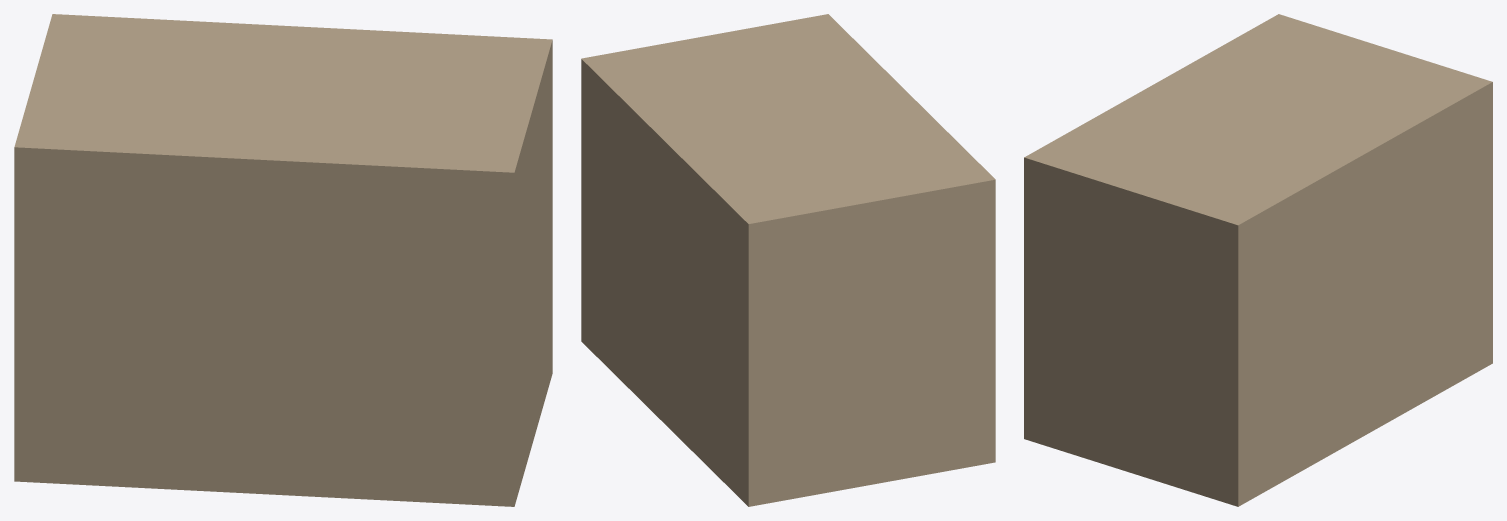
Rendered from bld_107639088.dae.
The picture shows the model from 3 angles, left to right: view 1: azimuth 30°, elevation 25°; view 2: azimuth 150°, elevation 25°; view 3: azimuth 270°, elevation 25°; orthographic projection. The views are drawn at different scales.
Visible parts, largest first — view 1: bld_107639088; view 2: bld_107639088; view 3: bld_107639088.
Part boxes in pixels (x1=…): bld_107639088: x1=14, y1=14, x2=552, y2=506; bld_107639088: x1=581, y1=14, x2=995, y2=506; bld_107639088: x1=1024, y1=14, x2=1492, y2=506.
Bounding box in the file's own units: 12.88 × 12.07 × 8.
